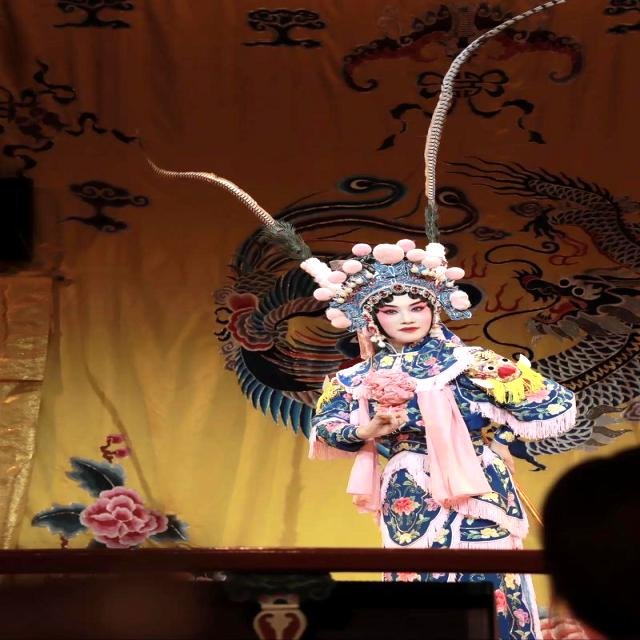Reeves-s Pheasant: (426, 0, 567, 240), (147, 158, 275, 228)
